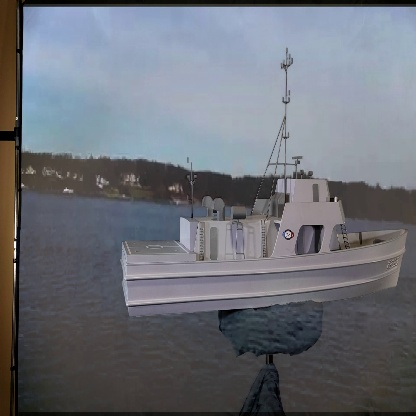YP689: (120, 44, 407, 318)
